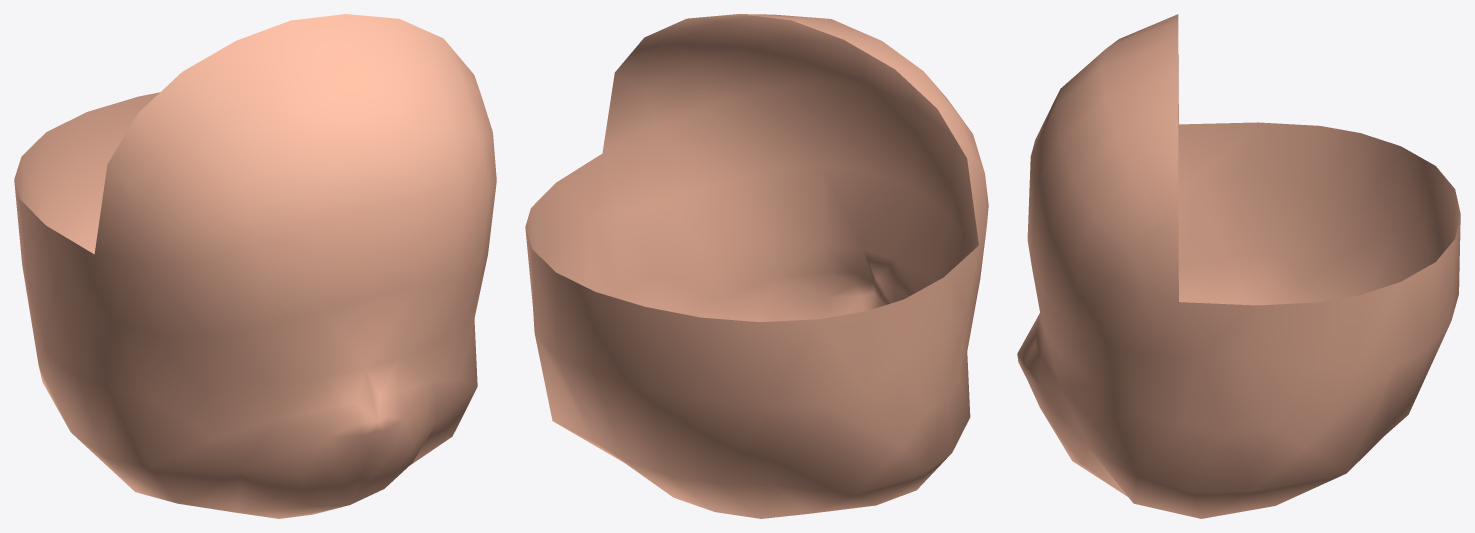
3 renders of one model, left to right at view 1: azimuth 30°, elevation 25°; view 2: azimuth 150°, elevation 25°; view 3: azimuth 270°, elevation 25°, orthographic. The views are drawn at different scales.
Visible parts, largest first — view 1: AF_M_Face_12; view 2: AF_M_Face_12; view 3: AF_M_Face_12.
Part boxes in pixels (left/top/right/bottom): AF_M_Face_12: left=14, top=14, right=496, bottom=518; AF_M_Face_12: left=525, top=14, right=988, bottom=518; AF_M_Face_12: left=1017, top=14, right=1460, bottom=518.
Size of the model in its own units: 646 by 731 by 661.
